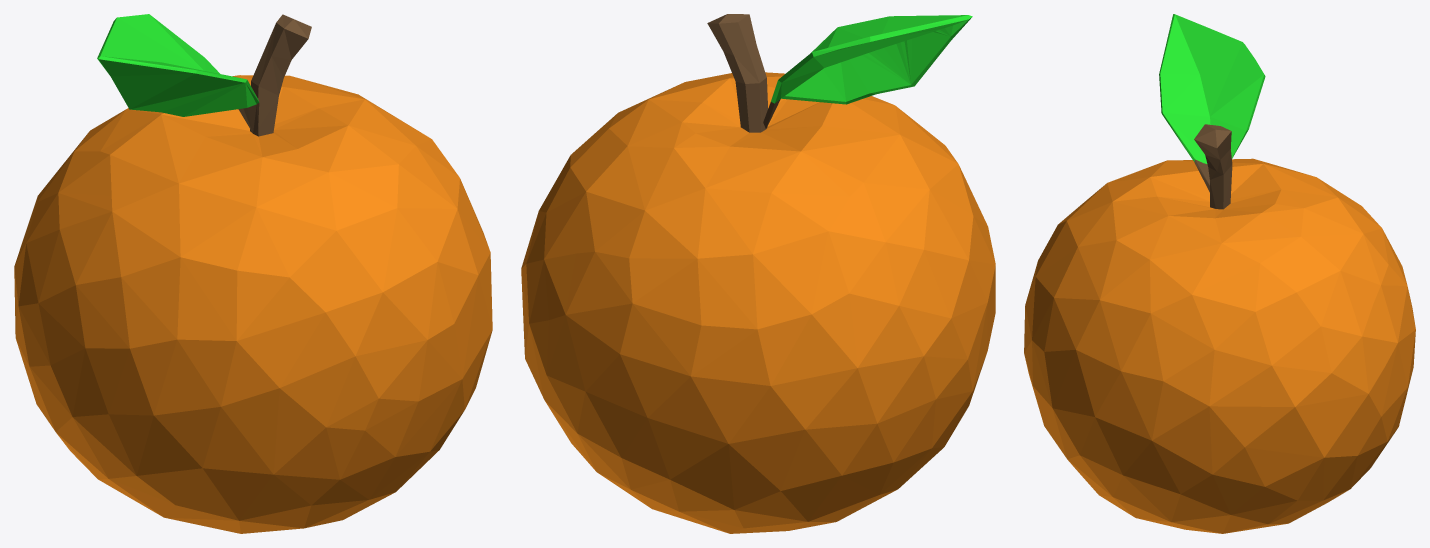
Rendered from Mandarina.fbx.
The picture shows the model from 3 angles, left to right: view 1: azimuth 30°, elevation 25°; view 2: azimuth 150°, elevation 25°; view 3: azimuth 270°, elevation 25°; orthographic projection. The views are drawn at different scales.
Visible parts, largest first — view 1: Mandarina; view 2: Mandarina; view 3: Mandarina.
Boxes of the visible parts, x1,y1,x2,y2 form: Mandarina: (14, 14, 492, 533); Mandarina: (521, 14, 995, 533); Mandarina: (1024, 14, 1415, 533).
Bounding box in the file's own units: 329 × 383 × 329.
